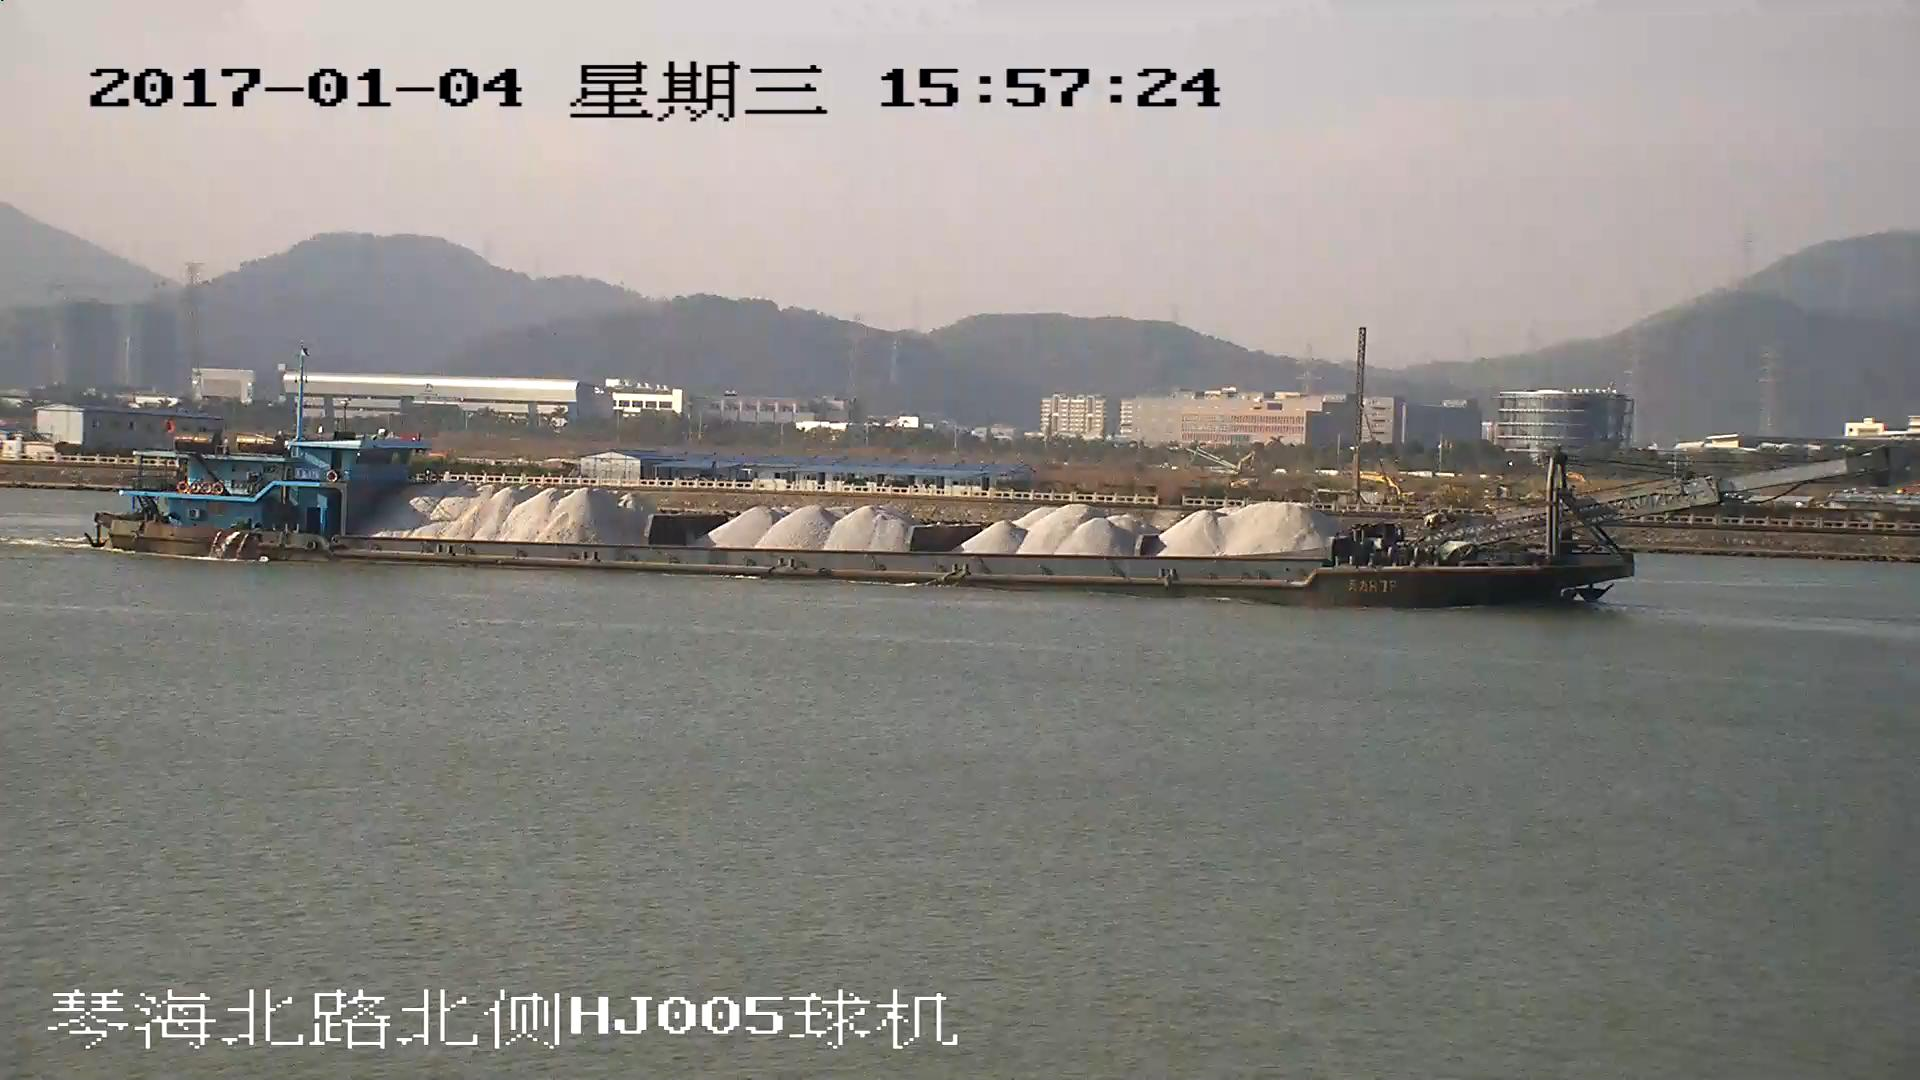ore carrier: (80, 438, 1851, 603)
